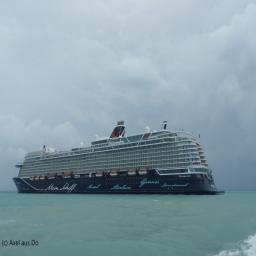cruises: (11, 120, 227, 198)
